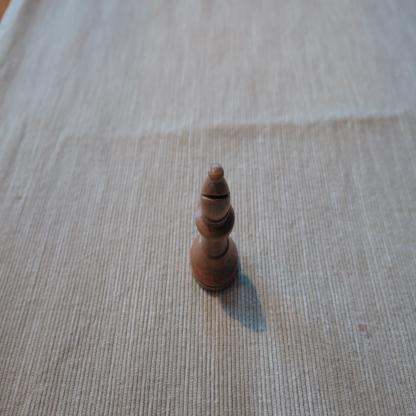white-bishop: (189, 162, 239, 293)
